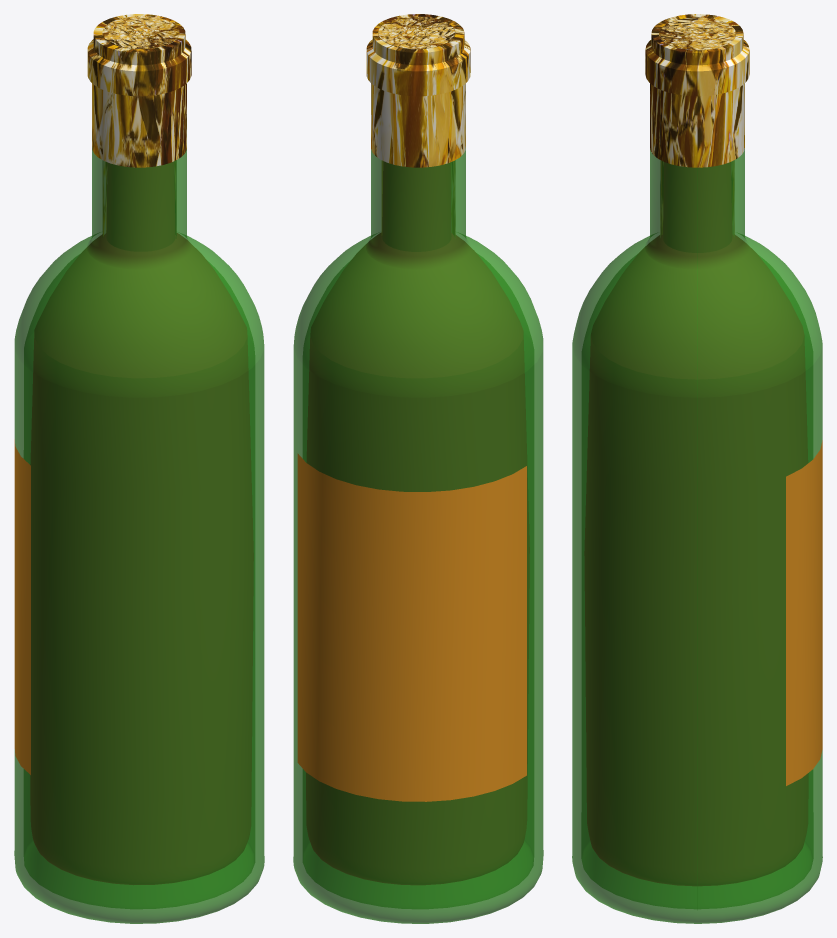
File: gino_48-bottle-4079.glb
3 views of the same model, side by side, from view 1: azimuth 30°, elevation 25°; view 2: azimuth 150°, elevation 25°; view 3: azimuth 270°, elevation 25° (orthographic).
Visible parts, largest first — view 1: Rotazione-Nuovo, Rotazione.002, Rotazione-Nuovo.4, Rotazione-Nuovo.2, Cilindro; view 2: Rotazione-Nuovo, Rotazione.002, Rotazione-Nuovo.2, Rotazione-Nuovo.4, Cilindro; view 3: Rotazione-Nuovo, Rotazione.002, Rotazione-Nuovo.4, Rotazione-Nuovo.2, Cilindro.
Boxes of the visible parts, bbox=[...] form: Rotazione-Nuovo: bbox=[14, 147, 264, 923]; Rotazione.002: bbox=[30, 162, 253, 884]; Rotazione-Nuovo.4: bbox=[87, 14, 191, 235]; Rotazione-Nuovo.2: bbox=[14, 439, 30, 774]; Cilindro: bbox=[102, 16, 179, 49]; Rotazione-Nuovo: bbox=[293, 147, 543, 923]; Rotazione.002: bbox=[306, 162, 529, 884]; Rotazione-Nuovo.2: bbox=[297, 453, 526, 801]; Rotazione-Nuovo.4: bbox=[366, 14, 470, 237]; Cilindro: bbox=[378, 16, 455, 49]; Rotazione-Nuovo: bbox=[572, 148, 822, 923]; Rotazione.002: bbox=[584, 162, 808, 885]; Rotazione-Nuovo.4: bbox=[645, 14, 749, 236]; Rotazione-Nuovo.2: bbox=[786, 440, 822, 785]; Cilindro: bbox=[659, 17, 736, 50].
Size of the model in its own units: 1.5 by 5.54 by 1.5.
Materials: 4 (1 with a texture image).
